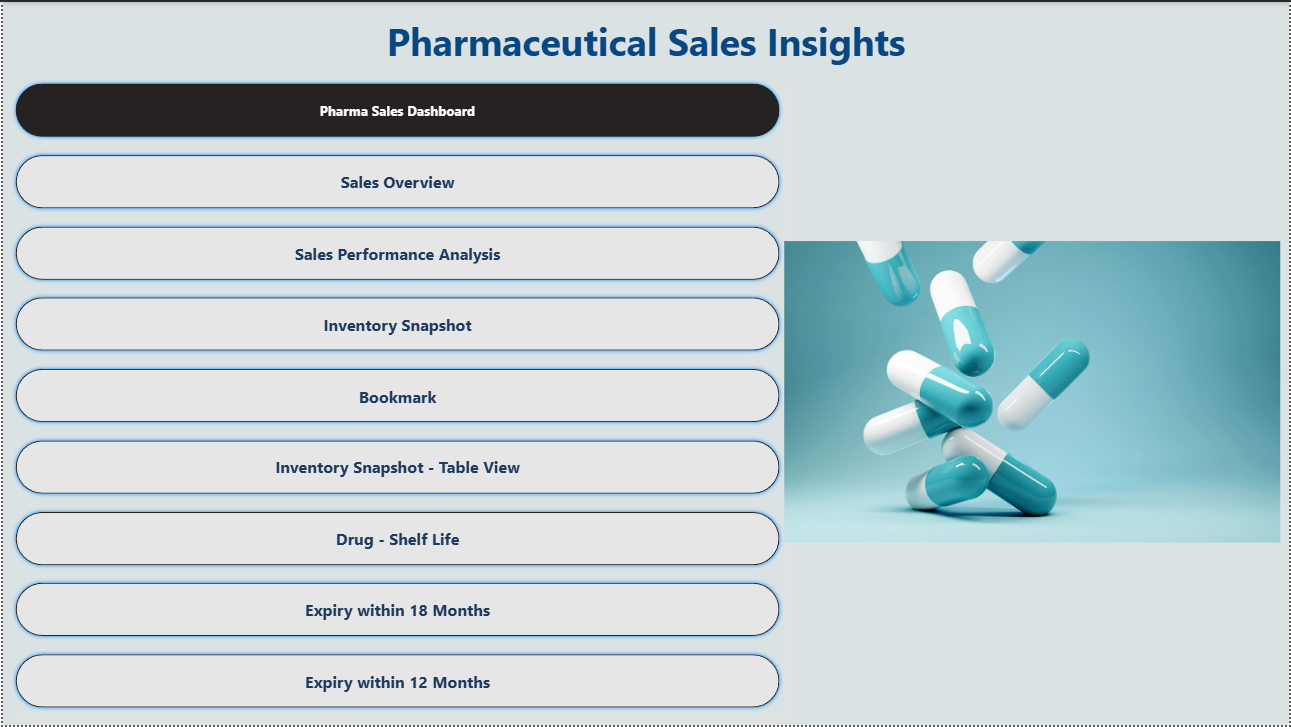

Layout of this report page (visuals, bound fields, positions):
{"tool":"powerbi","page":{"name":"Pharma Sales Dashboard","canvas":[1280,720],"ordinal":0},"visuals":[{"type":"pageNavigator","box":[8.7,77.1,768.8,633.2],"z":0},{"type":"image","box":[777.5,65.9,493.9,644.4],"z":1000},{"type":"textbox","box":[0,8.7,1280,68.4],"z":2000}]}

Visuals, with their boxes in screenshot pixels (x1, y1, x2, y2), scaled from the page's 1280x720 canvas onto the 1291x727 screenshot:
pageNavigator: [left=9, top=78, right=784, bottom=717]
image: [left=784, top=67, right=1282, bottom=717]
textbox: [left=0, top=9, right=1290, bottom=78]
